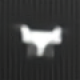plane: (12, 22, 66, 60)
